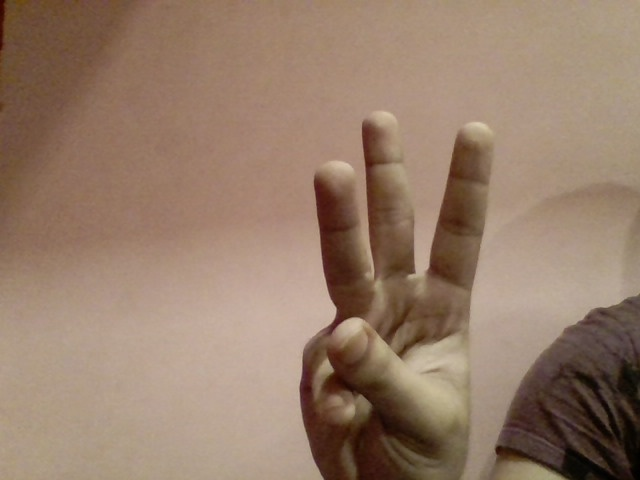w: (285, 102, 508, 480)
